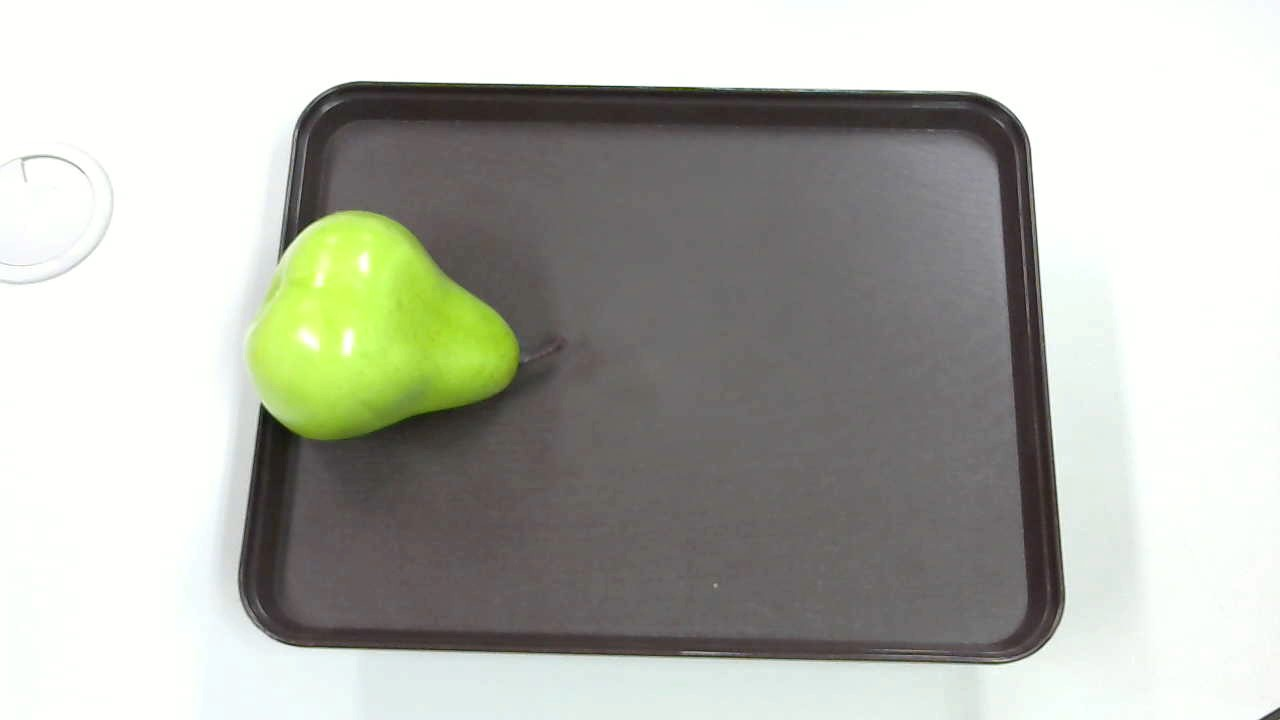green pear: (246, 213, 579, 444)
